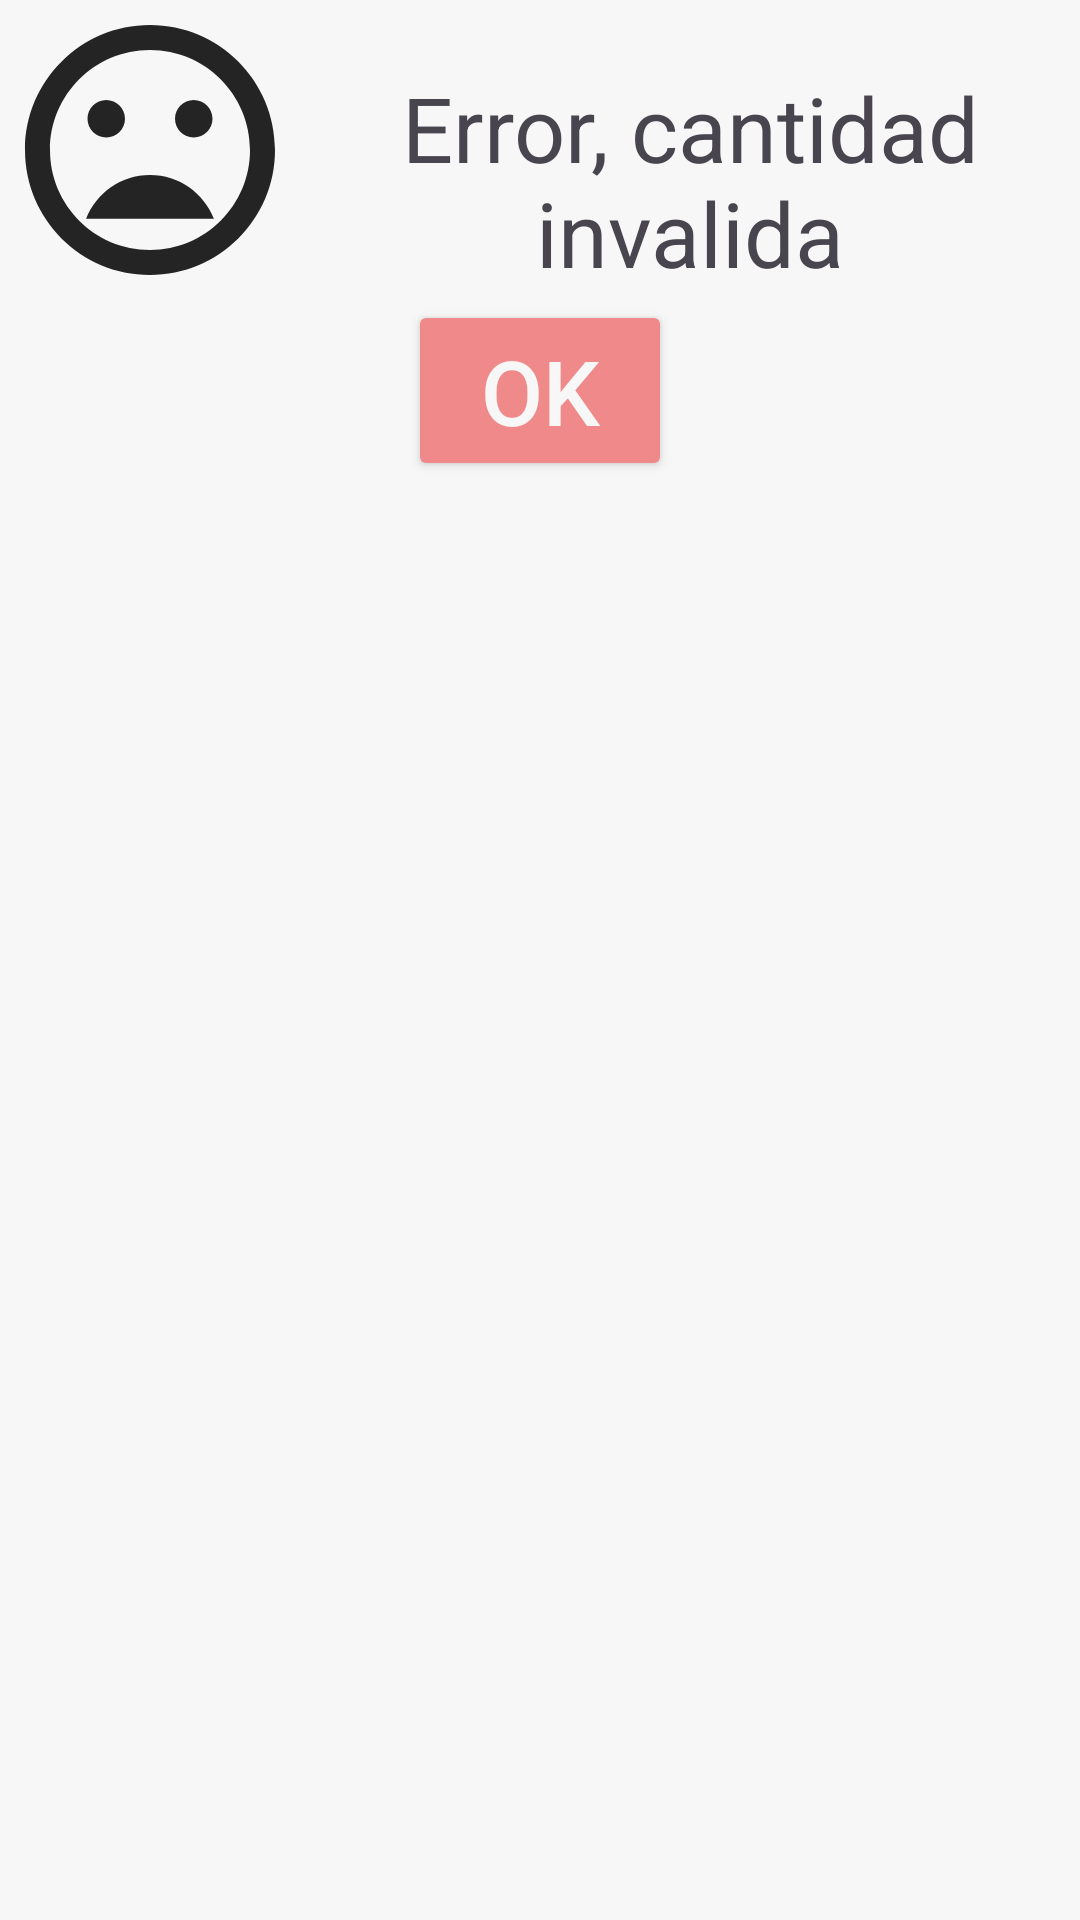

Where to tap for icons on this 1080×1920 app screen, as point (x, y):
mood bad: point (150, 150)
